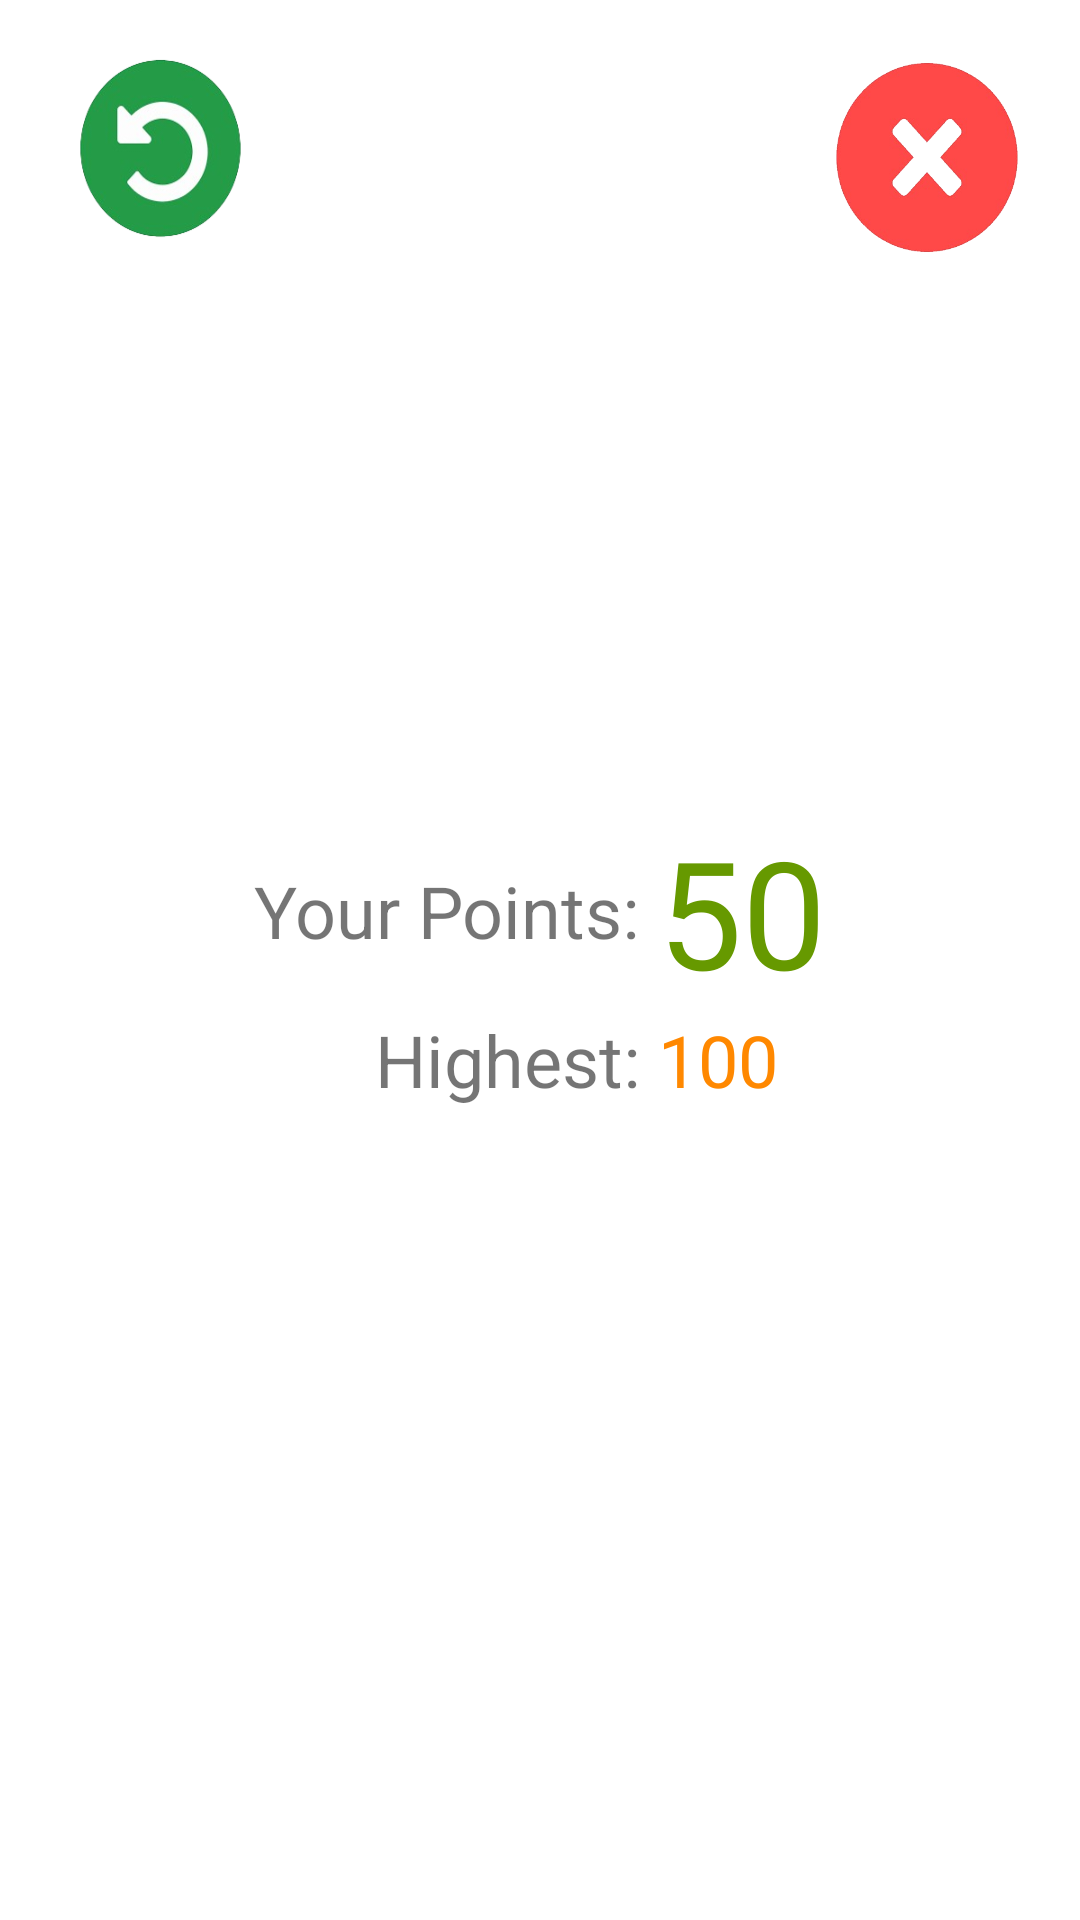

Icon bounding boxes for this 1080×1920 phone screenshot, format [x1,y1,x2,y2]:
exit: [836,63,1018,252]
restart: [80,60,241,237]
